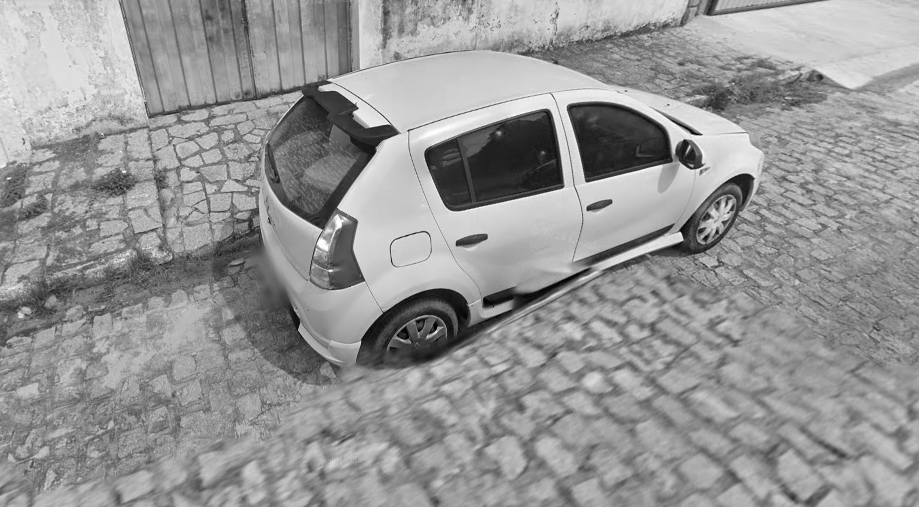car: (255, 45, 767, 380)
